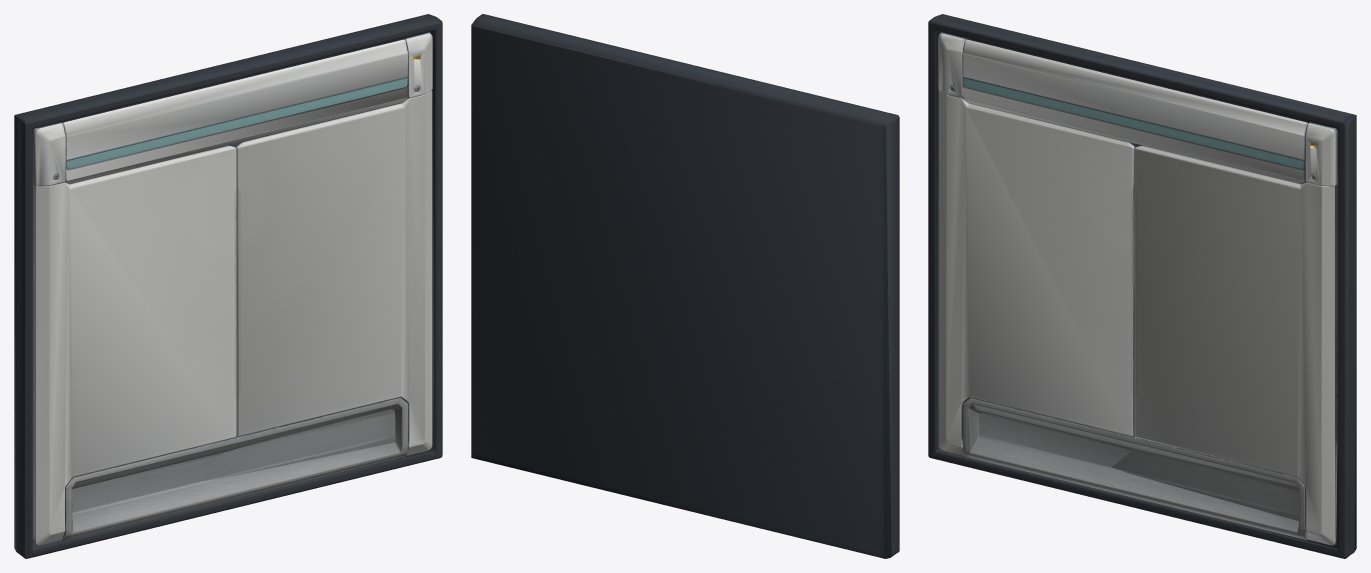
The model's file is clinical_wall_p2_4k.glb.
3 views of the same model, side by side, from view 1: azimuth 30°, elevation 25°; view 2: azimuth 150°, elevation 25°; view 3: azimuth 330°, elevation 25° (orthographic).
Visible parts, largest first — view 1: TripoWallTile_Template_3x3m; view 2: TripoWallTile_Template_3x3m; view 3: TripoWallTile_Template_3x3m.
Part boxes in pixels (x1=…): TripoWallTile_Template_3x3m: x1=14, y1=14, x2=442, y2=558; TripoWallTile_Template_3x3m: x1=471, y1=14, x2=899, y2=558; TripoWallTile_Template_3x3m: x1=928, y1=14, x2=1356, y2=558.
Bounding box in the file's own units: 3 × 3 × 0.2.
Materials: 1 (1 with a texture image).
